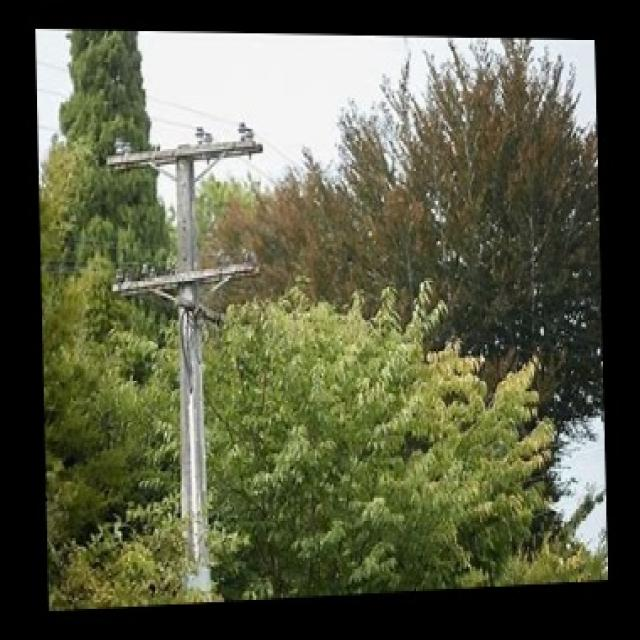utility poles: (97, 93, 300, 599)
